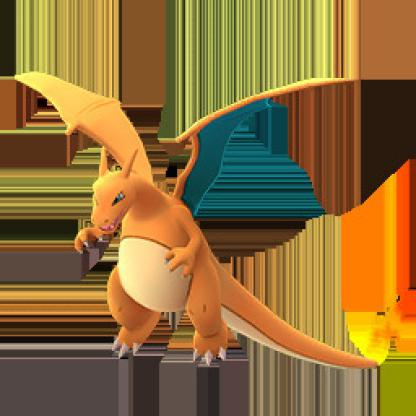Charizard: (22, 71, 398, 391)
